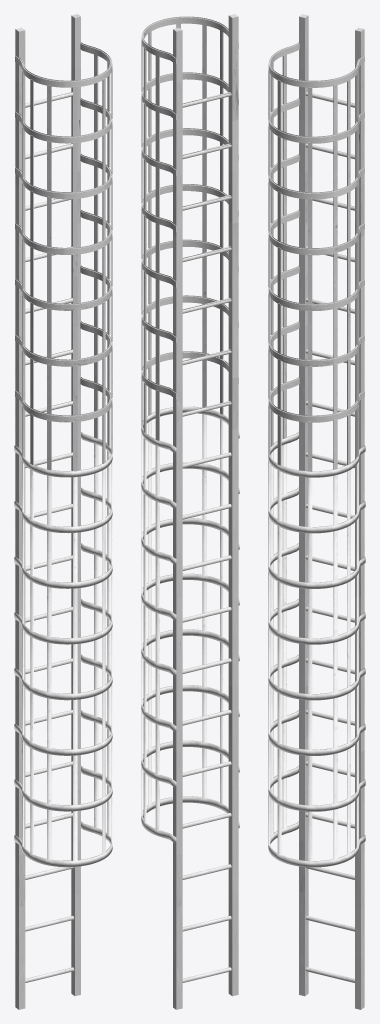
Rendered from LargeLadder.glb.
3 views of the same model, side by side, from view 1: azimuth 30°, elevation 25°; view 2: azimuth 210°, elevation 25°; view 3: azimuth 330°, elevation 25° (orthographic).
Parts seen in each view (by area): view 1: Circle.001, Cube.001; view 2: Circle.001, Cube.001; view 3: Circle.001, Cube.001.
Part boxes in pixels (x1,y1,x2,y2): Circle.001: (14,42,112,867); Cube.001: (15,14,80,1009); Circle.001: (141,16,239,843); Cube.001: (173,14,238,1009); Circle.001: (268,42,365,867); Cube.001: (299,14,364,1009).
Size of the model in its own units: 2.56 by 30.4 by 2.42.
Materials: 1 (1 with a texture image).
